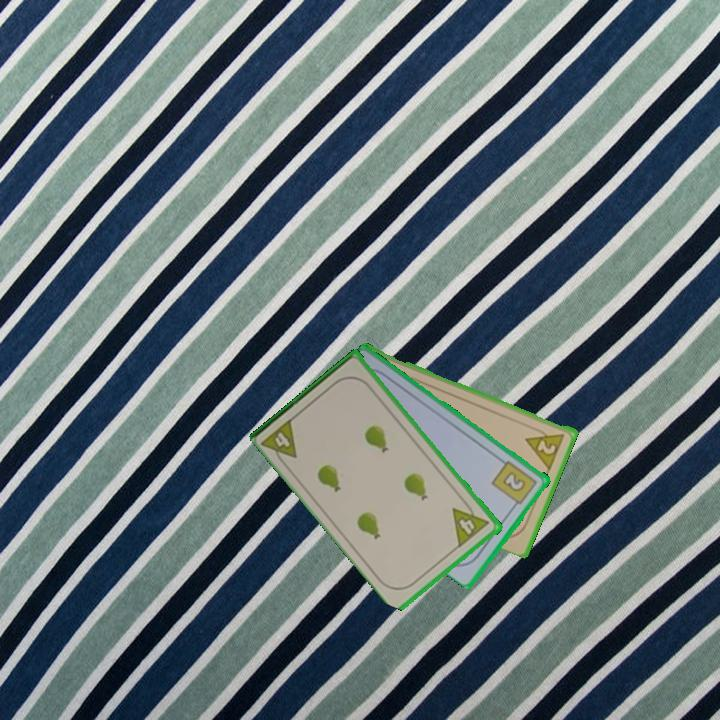2b: (489, 457, 540, 511)
2p: (522, 424, 568, 471)
4p: (259, 414, 301, 469), (449, 497, 493, 549)
